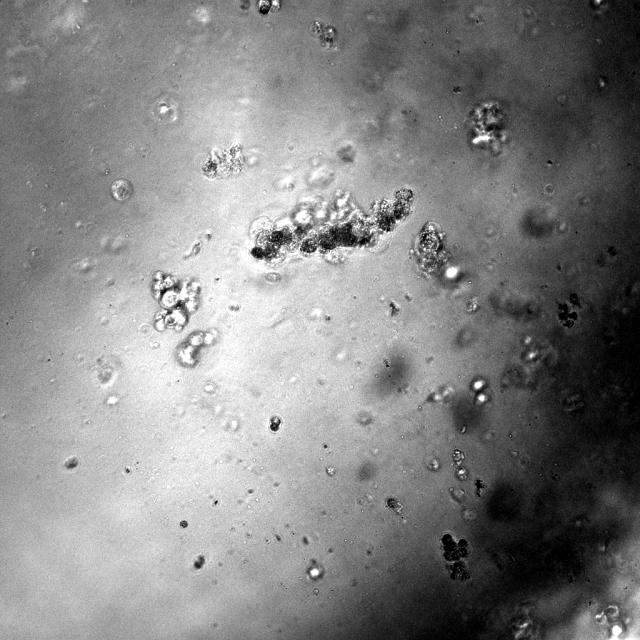organoid: (249, 186, 414, 263), (151, 271, 201, 331), (468, 101, 508, 154), (414, 221, 451, 274), (194, 143, 244, 179), (176, 330, 217, 367), (441, 534, 469, 581), (557, 293, 581, 328), (309, 20, 336, 49), (451, 448, 468, 481), (110, 178, 133, 202), (257, 0, 279, 14), (386, 497, 402, 514), (269, 415, 282, 433), (63, 455, 79, 469), (193, 554, 205, 569), (179, 520, 187, 527)
